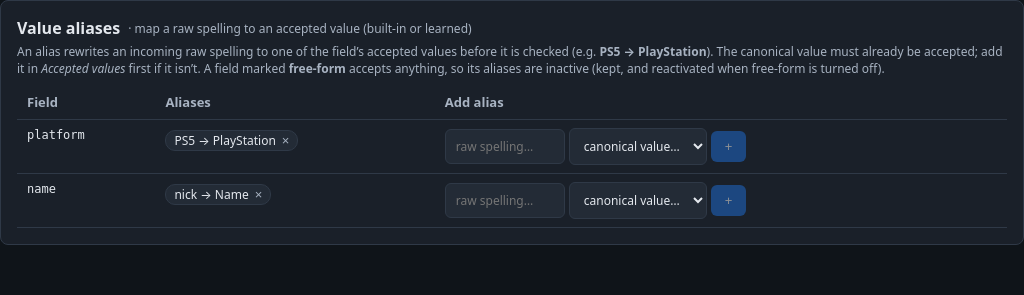
ValueAliasesEditor › a server 422 renders inline and does not clear the input
Type "XP" into the field named "Alias raw spelling for platform". click: (505, 146)
box: 445,129 -> 565,164
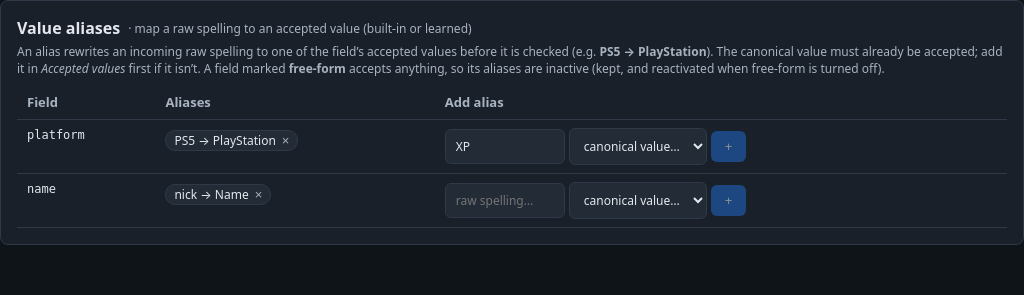
Select "Windows PC" in the dropdown named "Canonical value for platform". click: (638, 146)
box: 569,128 -> 707,165
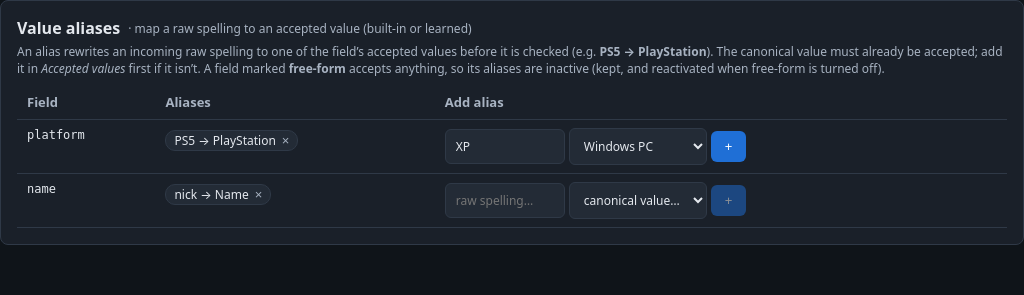
Click the button "+" in the row of "platform". click: (729, 146)
box: 711,131 -> 746,162
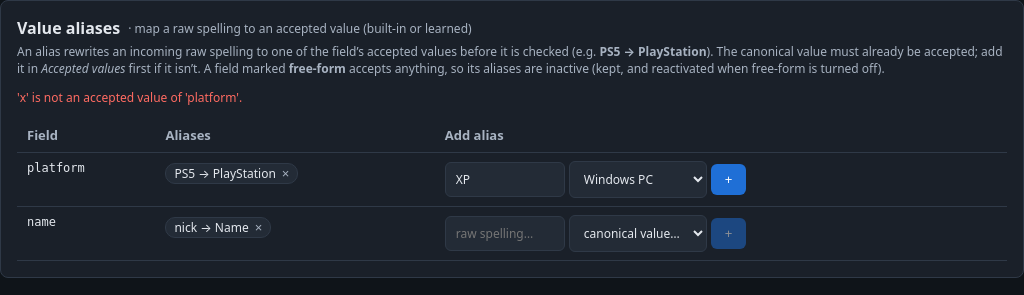
Check: the text "'x' is not an accepted value of 'platform'." is shown, box 17,89 -> 242,106
